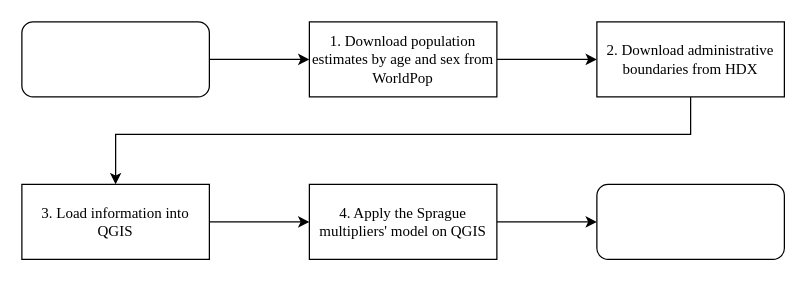
Image size: 806x281. Some labels were removed from this diagram. Here are the shapes that lost their labels. From the top down, the centre of each, then its label:
[115,59]: Start
[690,221]: End
